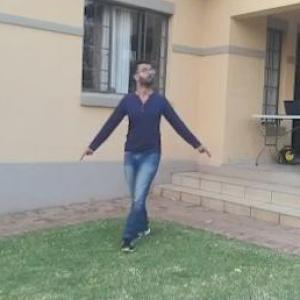land: (96, 70, 198, 230)
